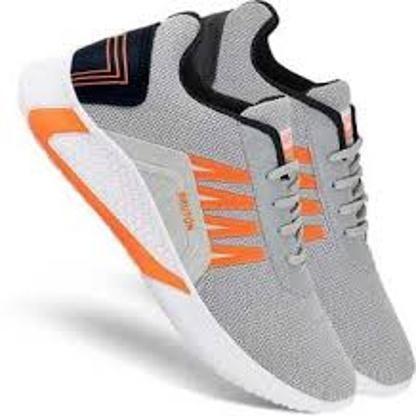not trash: (16, 3, 416, 410)
